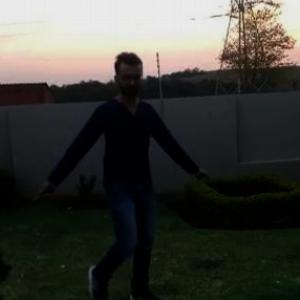land: (48, 63, 193, 283)
